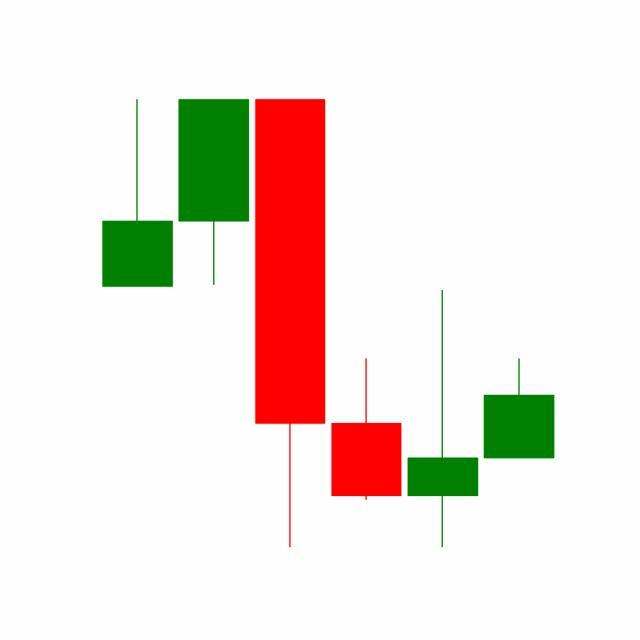Spinning Top: (404, 288, 482, 551)
